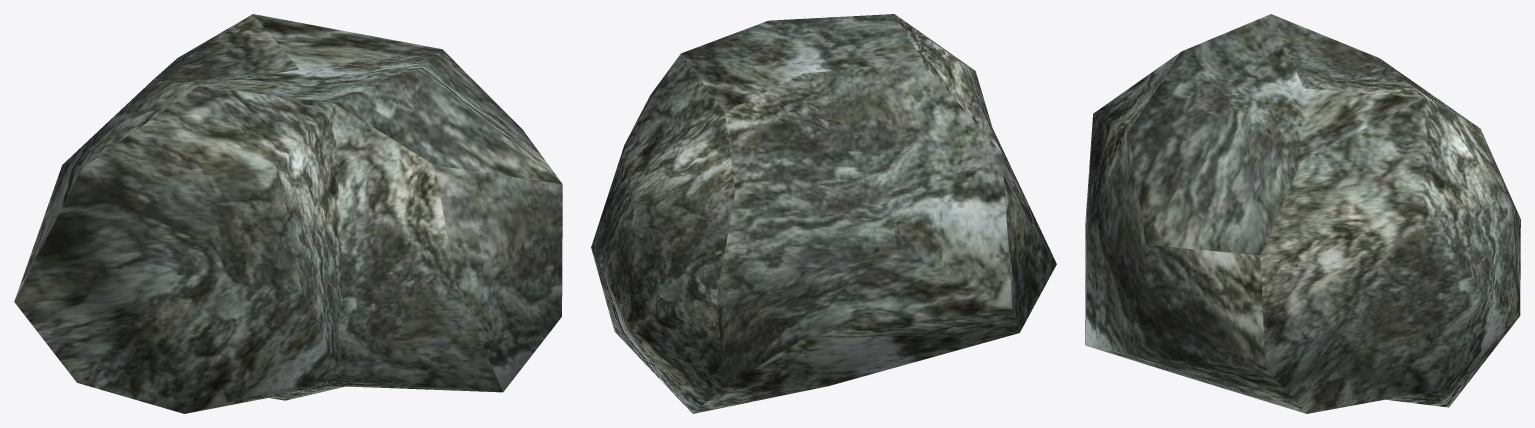
The model's file is stone2.dae.
The picture shows the model from 3 angles, left to right: view 1: azimuth 30°, elevation 25°; view 2: azimuth 150°, elevation 25°; view 3: azimuth 270°, elevation 25°; orthographic projection. The views are drawn at different scales.
Visible parts, largest first — view 1: Sphere; view 2: Sphere; view 3: Sphere.
Boxes of the visible parts, x1=… form: Sphere: x1=14, y1=14, x2=562, y2=413; Sphere: x1=591, y1=14, x2=1056, y2=413; Sphere: x1=1085, y1=14, x2=1520, y2=413.
Bounding box in the file's own units: 2.51 × 2.21 × 1.82.
Materials: 1 (1 with a texture image).
